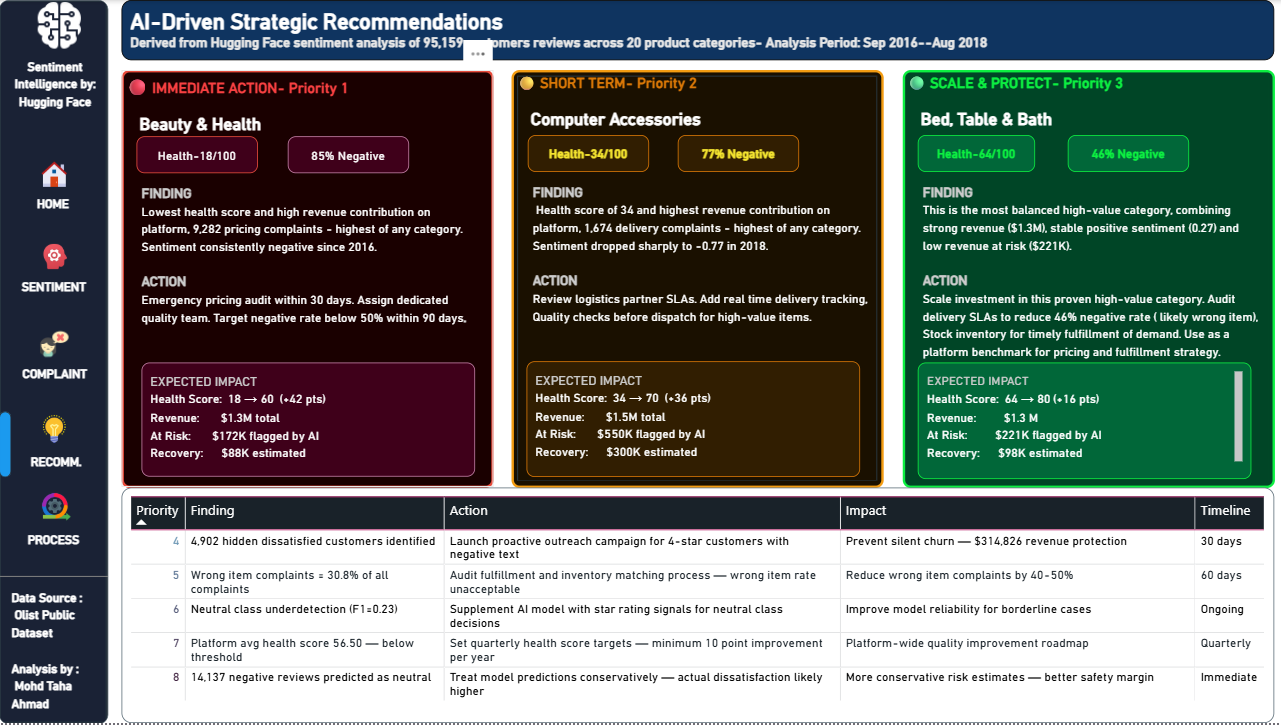

The page's visual inventory and layout, read from the dashboard file:
{"tool":"powerbi","page":{"name":"Recommendations","canvas":[1280,720],"ordinal":3},"visuals":[{"type":"shape","box":[0,0,108.4,720.4],"z":0},{"type":"textbox","box":[6.9,580,104.3,140],"z":1000},{"type":"image","box":[39.8,157.8,30.2,30.2],"z":2000},{"type":"textbox","box":[31.6,188,45.3,34.3],"z":3000},{"type":"image","box":[11,0,97.4,50.8],"z":4000},{"type":"textbox","box":[4.1,50.8,104.3,68.6],"z":5000},{"type":"image","box":[39.8,240.1,30.2,30.2],"z":6000},{"type":"textbox","box":[2.7,270.3,104.3,34.3],"z":7000},{"type":"textbox","box":[13.7,356.8,83.7,31.6],"z":8000},{"type":"shape","box":[0,558.5,108.4,30.2],"z":9000},{"type":"image","box":[39.8,326.6,30.2,30.2],"z":10000},{"type":"shape","box":[0,408.9,12.3,65.9],"z":11000},{"type":"image","box":[39.8,411.7,30.2,30.2],"z":12000},{"type":"textbox","box":[15.1,444.6,83.7,31.6],"z":13000},{"type":"textbox","box":[122.1,0,1147.2,60],"z":14000},{"type":"shape","box":[122.1,70,370.5,415.8],"z":15000},{"type":"shape","box":[510.5,70,370.5,415.8],"z":16000},{"type":"shape","box":[898.8,70,370.5,415.8],"z":17000},{"type":"textbox","box":[122.1,70,300.5,82.3],"z":18000},{"type":"textbox","box":[137.2,135.8,120.8,37],"z":19000},{"type":"textbox","box":[286.8,135.8,120.8,37],"z":20000},{"type":"textbox","box":[137.2,178.4,345.8,157.8],"z":21000},{"type":"textbox","box":[141.3,360.9,332.1,113.9],"z":22000},{"type":"textbox","box":[510.9,67.9,300.5,68.6],"z":23000},{"type":"textbox","box":[526,133.8,120.8,37],"z":24000},{"type":"textbox","box":[675.5,133.8,120.8,37],"z":25000},{"type":"textbox","box":[526,176.3,345.8,163.3],"z":26000},{"type":"textbox","box":[899.5,69,300.5,68.6],"z":27000},{"type":"textbox","box":[913.9,134.5,116.6,37],"z":28000},{"type":"textbox","box":[1064.1,134.9,120.8,37],"z":29000},{"type":"textbox","box":[914.3,176.6,345.8,211.5],"z":30000},{"type":"textbox","box":[914.3,360.7,332.1,115.7],"z":31000},{"type":"tableEx","fields":{"Values":["Sum(recommendations (2).priority)","recommendations (2).finding","recommendations (2).action","recommendations (2).impact","recommendations (2).timeline"]},"box":[122.1,485.8,1147.2,234.6],"z":32000},{"type":"textbox","box":[525.6,359.5,332.1,115.3],"z":33000},{"type":"textbox","box":[0,522.8,108.4,31.6],"z":34000},{"type":"image","box":[41.2,488.5,30.2,30.2],"z":35000}]}

Visuals, with their boxes on the page's 1280x720 design canvas (x1, y1, x2, y2). These are canvas units, not pixel positions in the 1281x725 screenshot, which may show the page scaled, cropped or inside an application window:
shape: <box>0,0,108,720</box>
textbox: <box>7,580,111,720</box>
image: <box>40,158,70,188</box>
textbox: <box>32,188,77,222</box>
image: <box>11,0,108,51</box>
textbox: <box>4,51,108,119</box>
image: <box>40,240,70,270</box>
textbox: <box>3,270,107,305</box>
textbox: <box>14,357,97,388</box>
shape: <box>0,558,108,589</box>
image: <box>40,327,70,357</box>
shape: <box>0,409,12,475</box>
image: <box>40,412,70,442</box>
textbox: <box>15,445,99,476</box>
textbox: <box>122,0,1269,60</box>
shape: <box>122,70,493,486</box>
shape: <box>510,70,881,486</box>
shape: <box>899,70,1269,486</box>
textbox: <box>122,70,423,152</box>
textbox: <box>137,136,258,173</box>
textbox: <box>287,136,408,173</box>
textbox: <box>137,178,483,336</box>
textbox: <box>141,361,473,475</box>
textbox: <box>511,68,811,136</box>
textbox: <box>526,134,647,171</box>
textbox: <box>676,134,796,171</box>
textbox: <box>526,176,872,340</box>
textbox: <box>900,69,1200,138</box>
textbox: <box>914,134,1030,172</box>
textbox: <box>1064,135,1185,172</box>
textbox: <box>914,177,1260,388</box>
textbox: <box>914,361,1246,476</box>
tableEx - Sum(recommendations (2).priority) x recommendations (2).finding: <box>122,486,1269,720</box>
textbox: <box>526,360,858,475</box>
textbox: <box>0,523,108,554</box>
image: <box>41,488,71,519</box>
